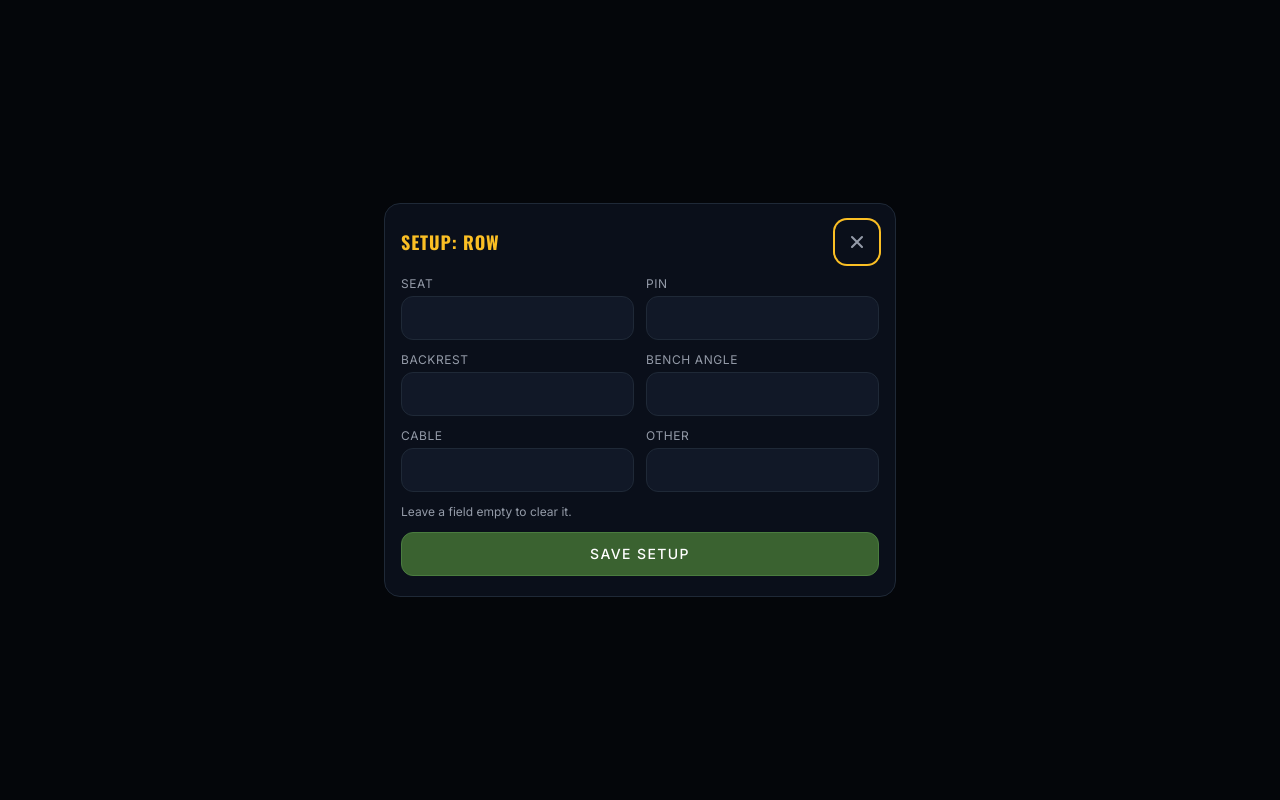
SetupSheet results › an error result shows an alert, keeps the values and allows a retry
Type "low" into the field with test id "setup-cable" at (518, 470), box [401,448,634,492]
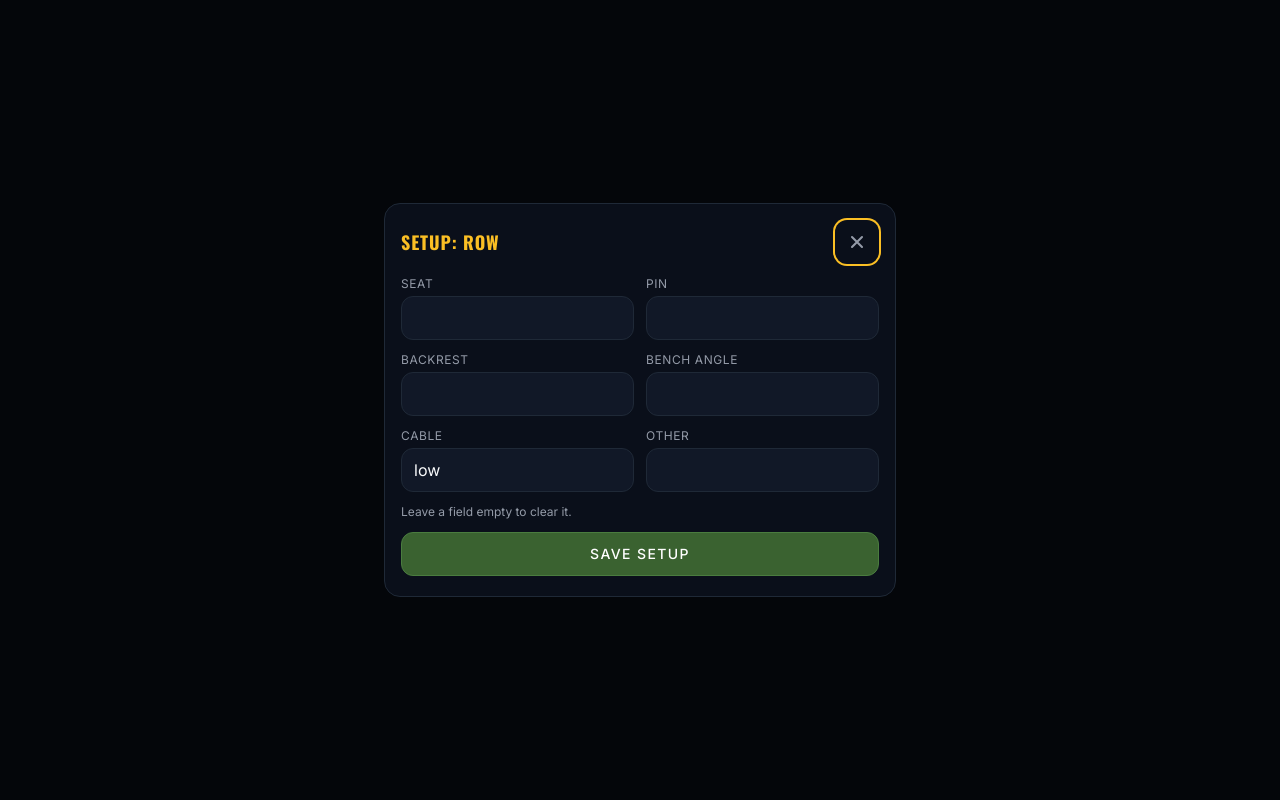
Click the button with test id "setup-save" at (640, 554), box [401,532,879,576]
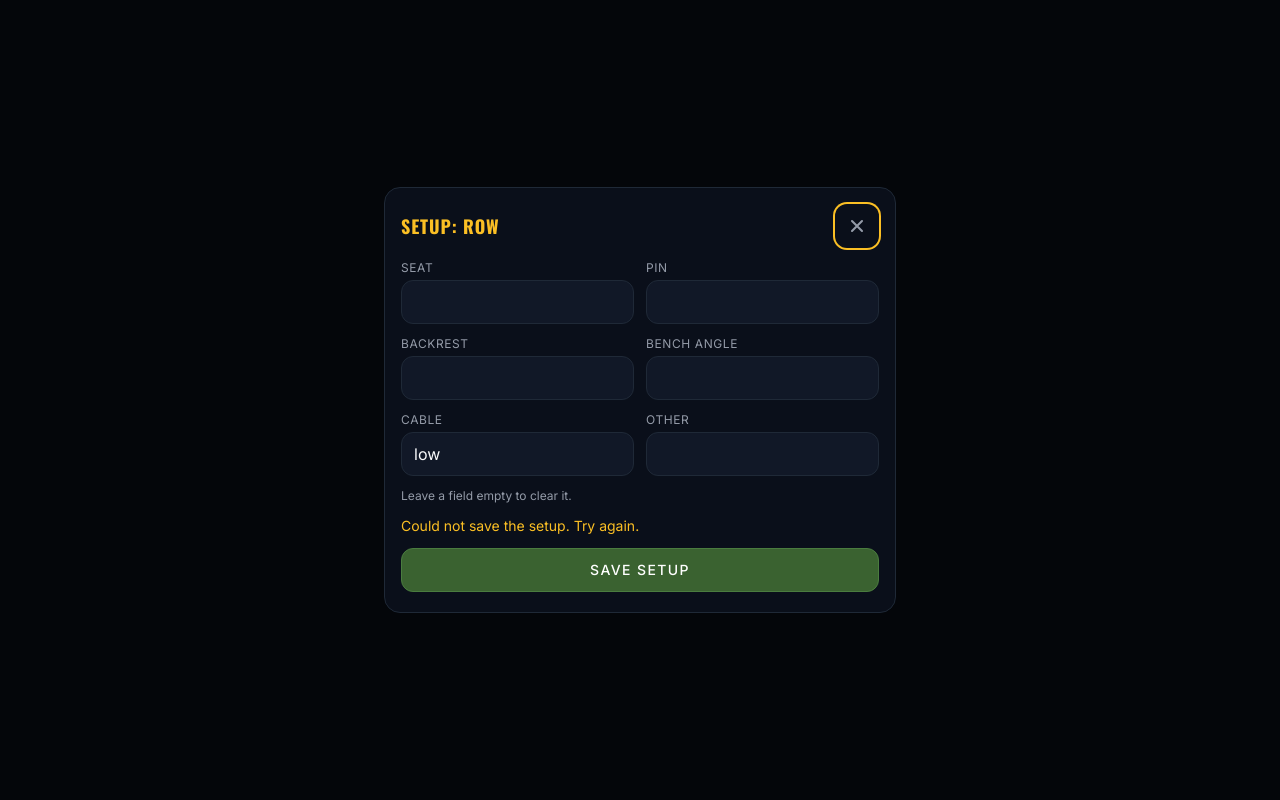
expect the button with test id "setup-save" is enabled: met, box [401,548,879,592]
expect the message shows "Could not save the setup": met, box [401,517,639,534]
